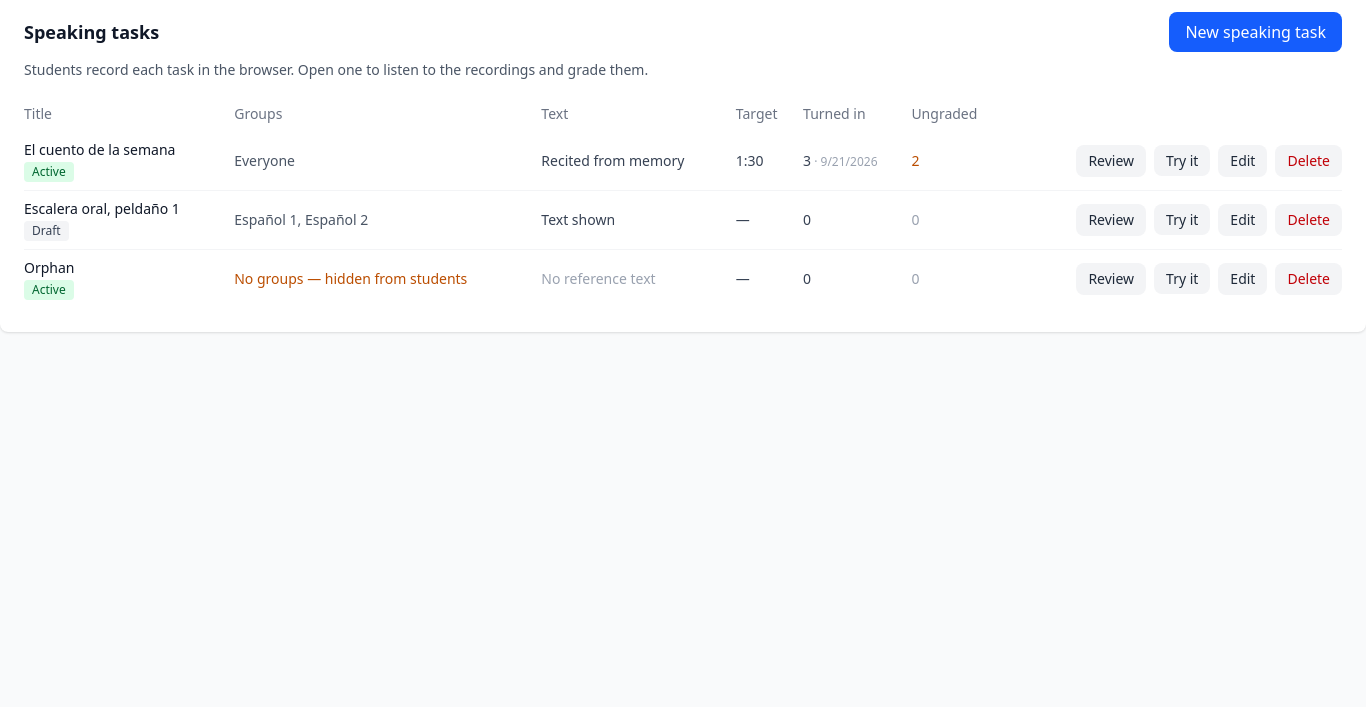
Test: SpeakingManager › shows the server’s error when saving fails
Click the button "New speaking task": click(1256, 32) [1169, 12, 1342, 52]
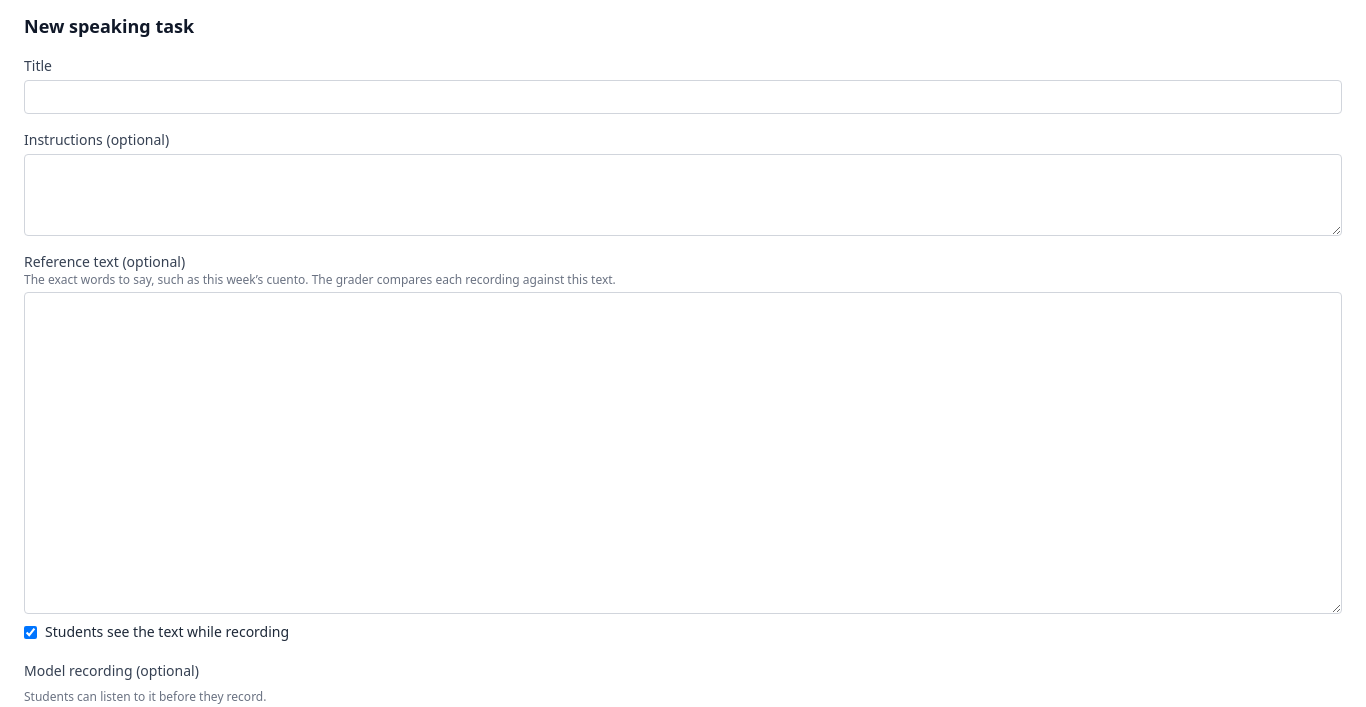
In the field labelled "Title": (683, 97) [24, 80, 1342, 114], type "Cuento 3"
(page scrolled)
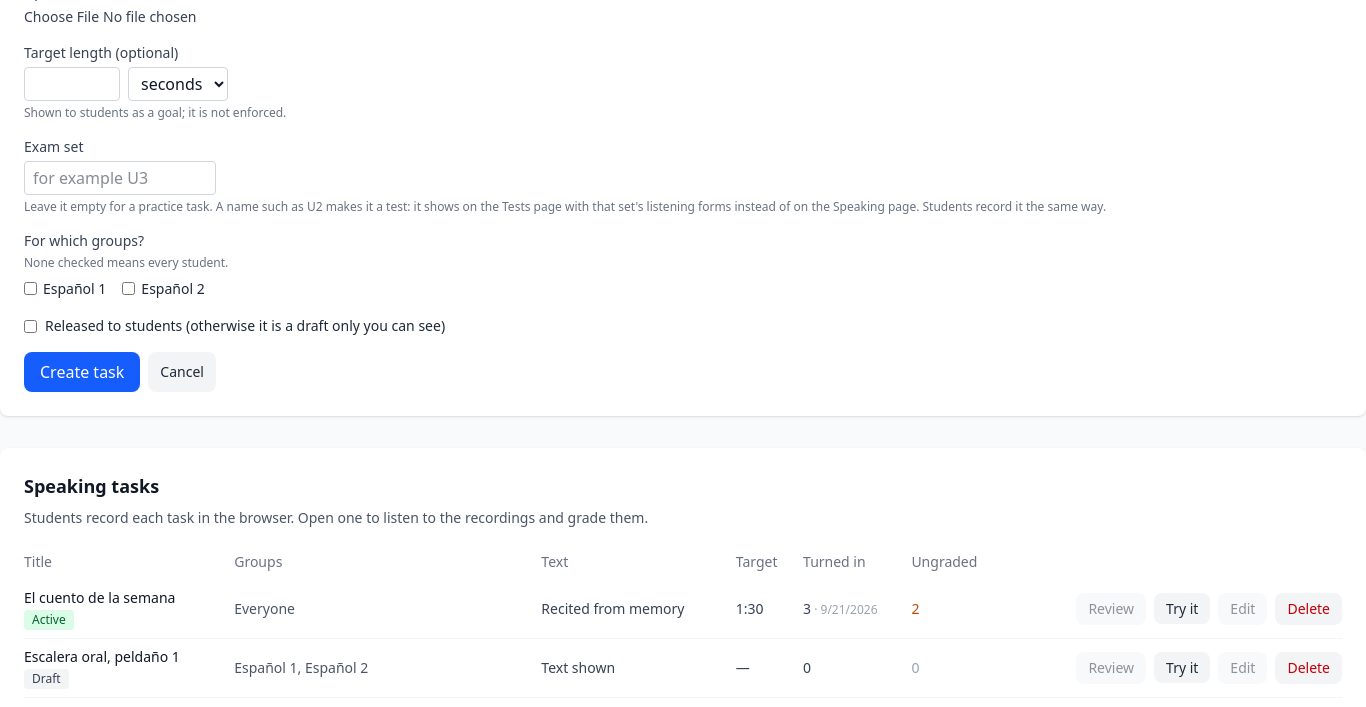
Click the button "Create task": click(82, 372) [24, 352, 140, 392]
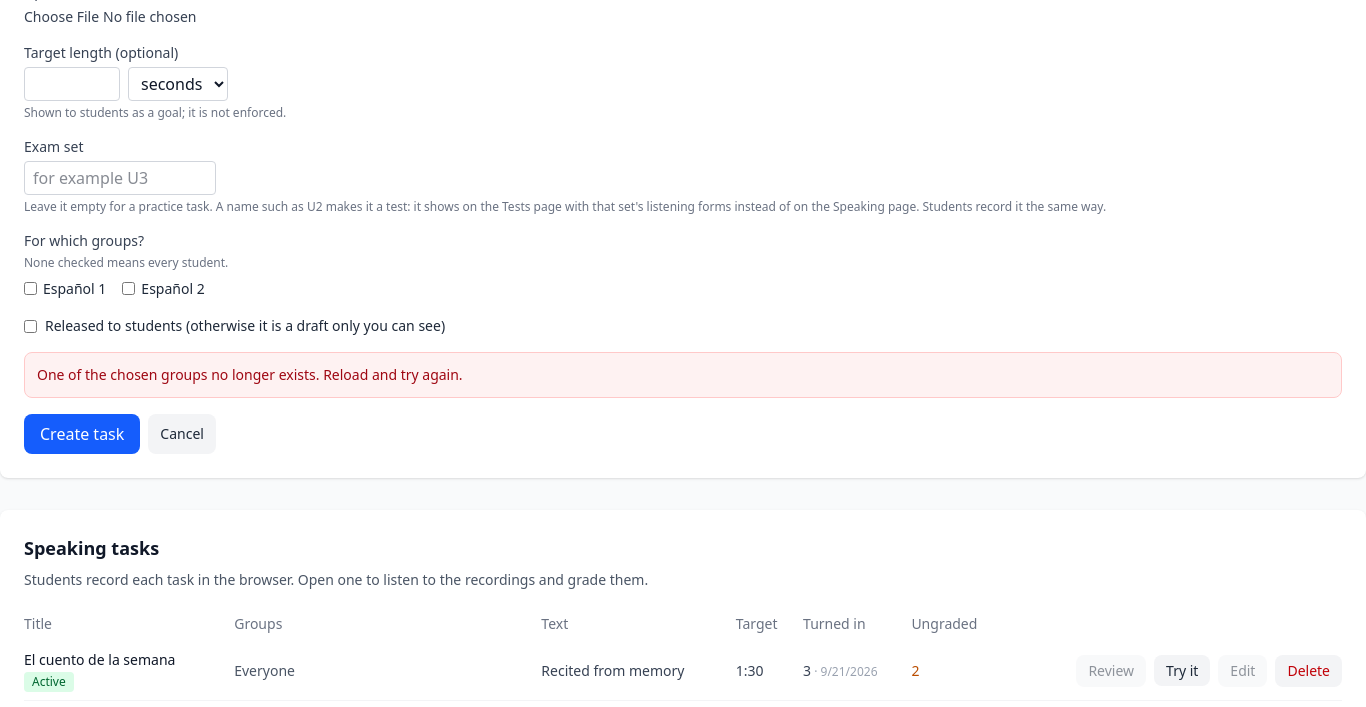
expect the button "Create task" is enabled: met, box [24, 414, 140, 454]
expect the message shows "One of the chosen groups no longer exists": met, box [37, 365, 463, 384]
